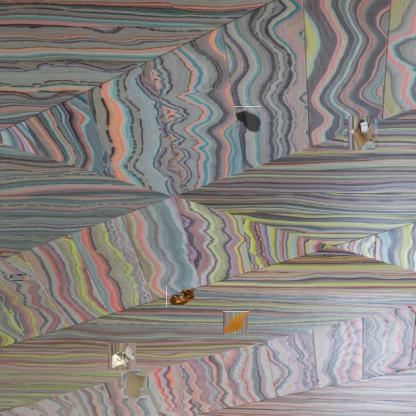dirty: (346, 118, 376, 148), (108, 342, 136, 370), (166, 285, 197, 307), (122, 371, 148, 397), (10, 274, 30, 280)
liquid: (234, 106, 262, 133), (224, 311, 249, 335)
